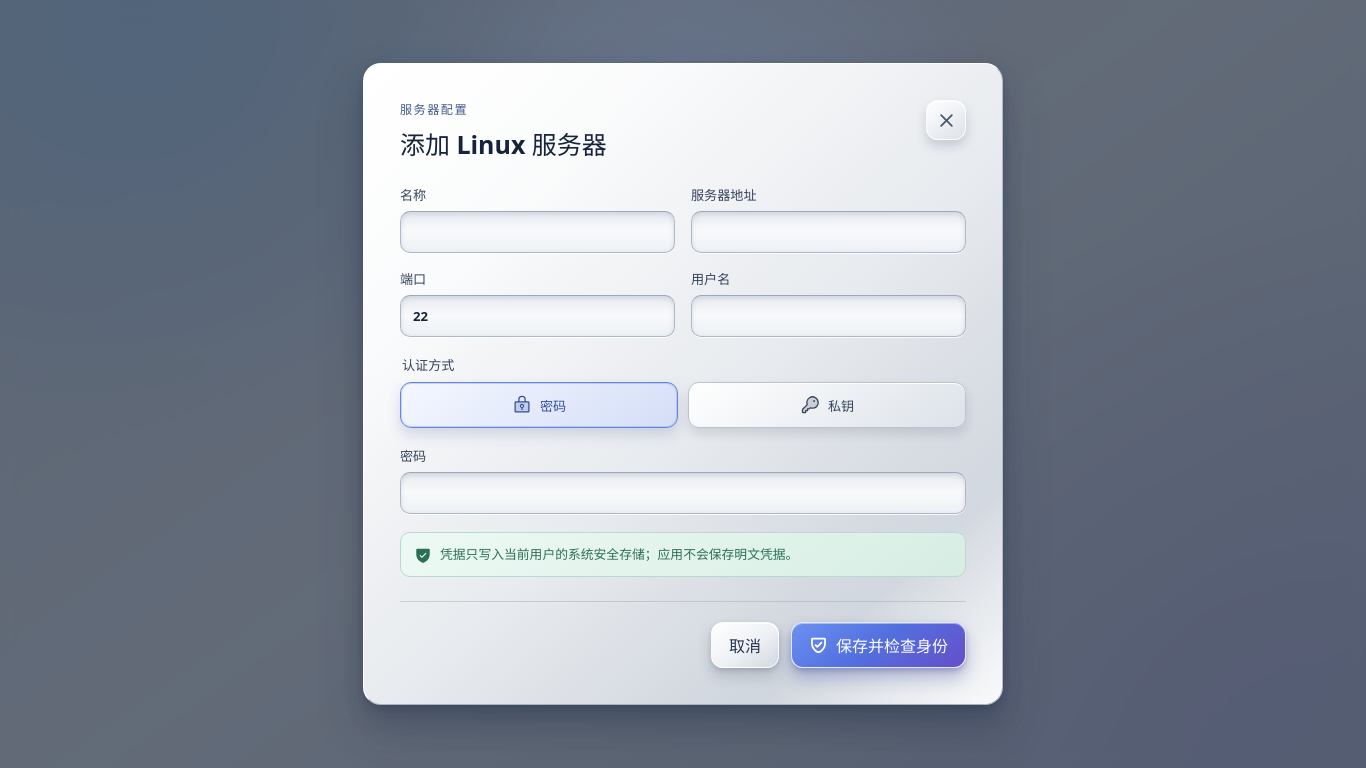
Test case: AddServerDialog › keeps password and private-key inputs mutually exclusive
This screenshot has width=1366, height=768.
Expected: the password field labelled "密码" is shown, [400,472,966,514]
Expected: the field labelled "私钥内容" is not shown
Click the radio button labelled "私钥": [827, 405] box [688,382,966,428]
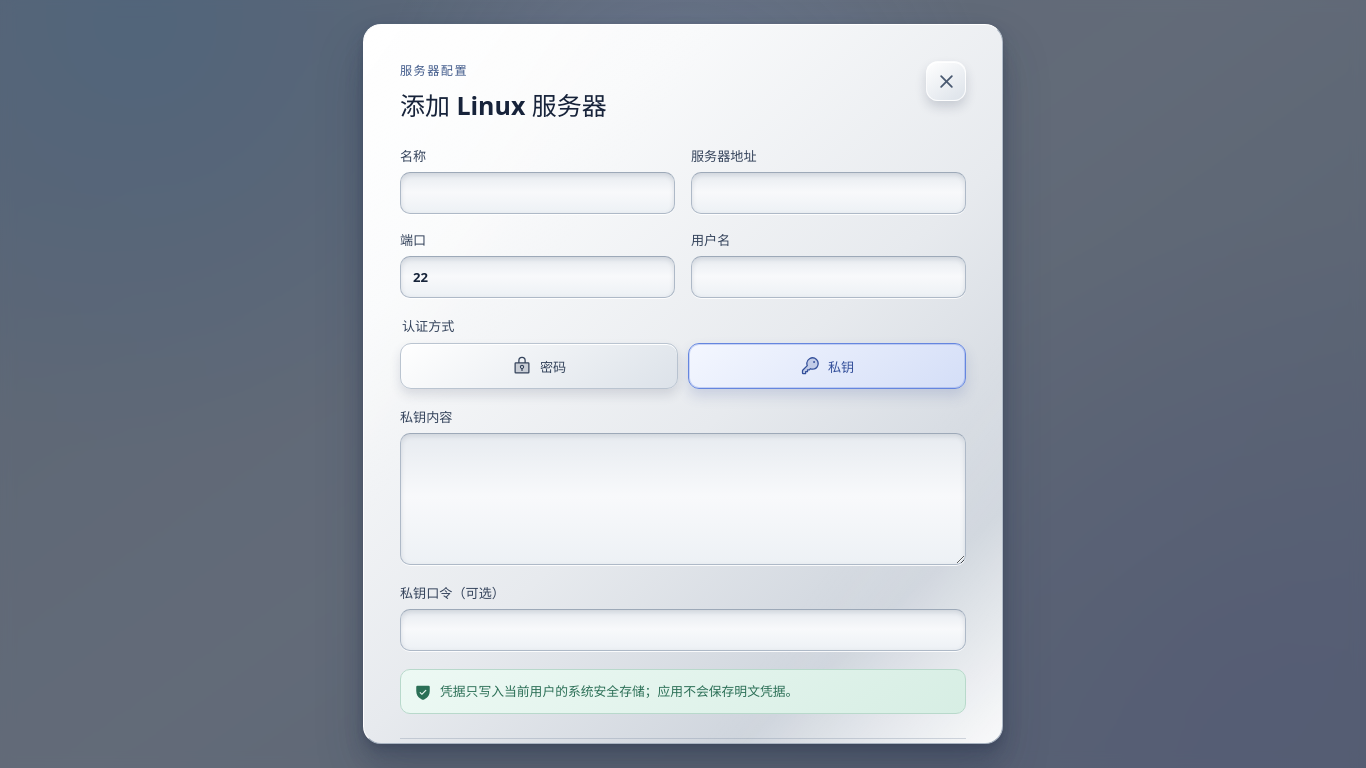
Expected: the password field labelled "私钥口令（可选）" is shown, [400,609,966,651]
Expected: the text box labelled "私钥内容" is shown, [400,433,966,565]
